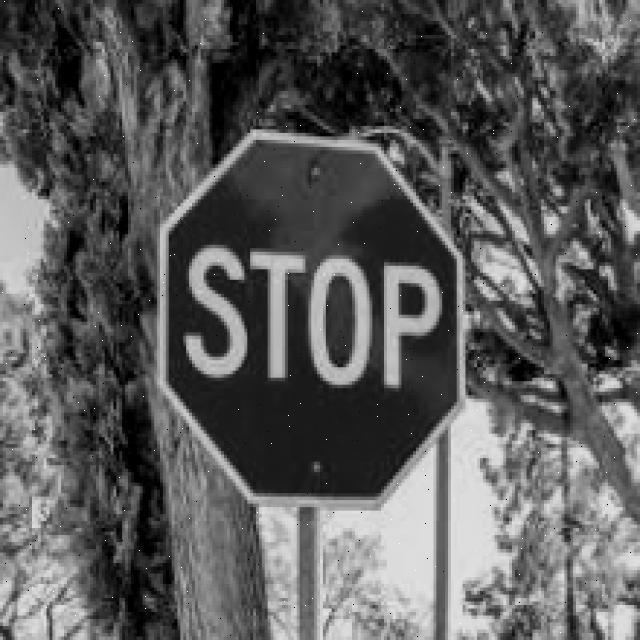Stop-signs: (158, 134, 463, 508)
